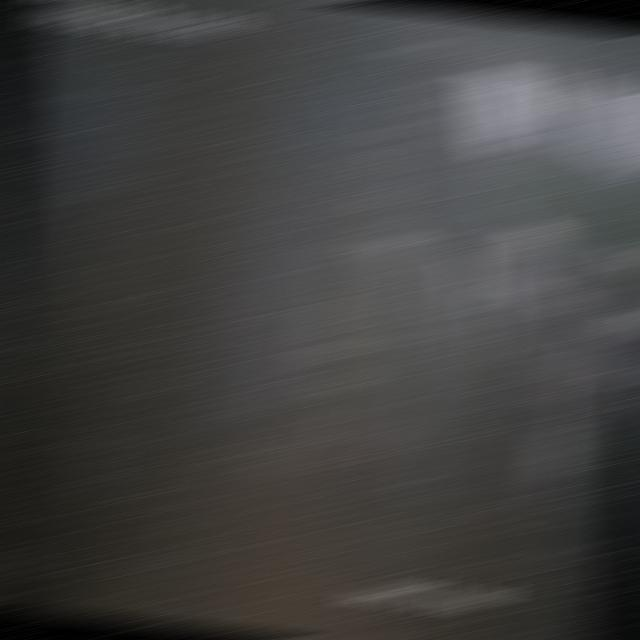cement_mixer_truck: (285, 218, 601, 520)
